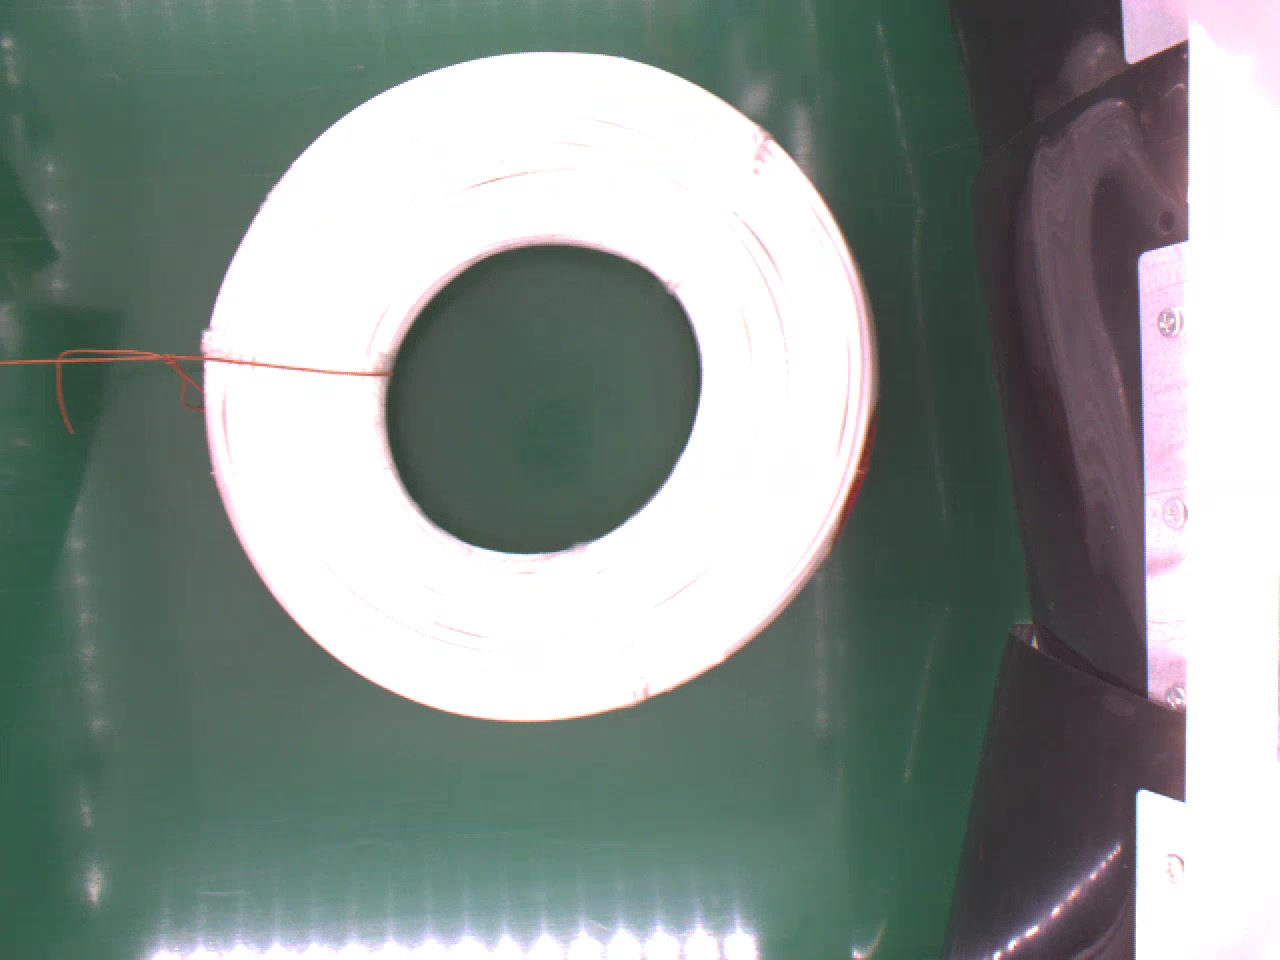white: (198, 51, 880, 724)
